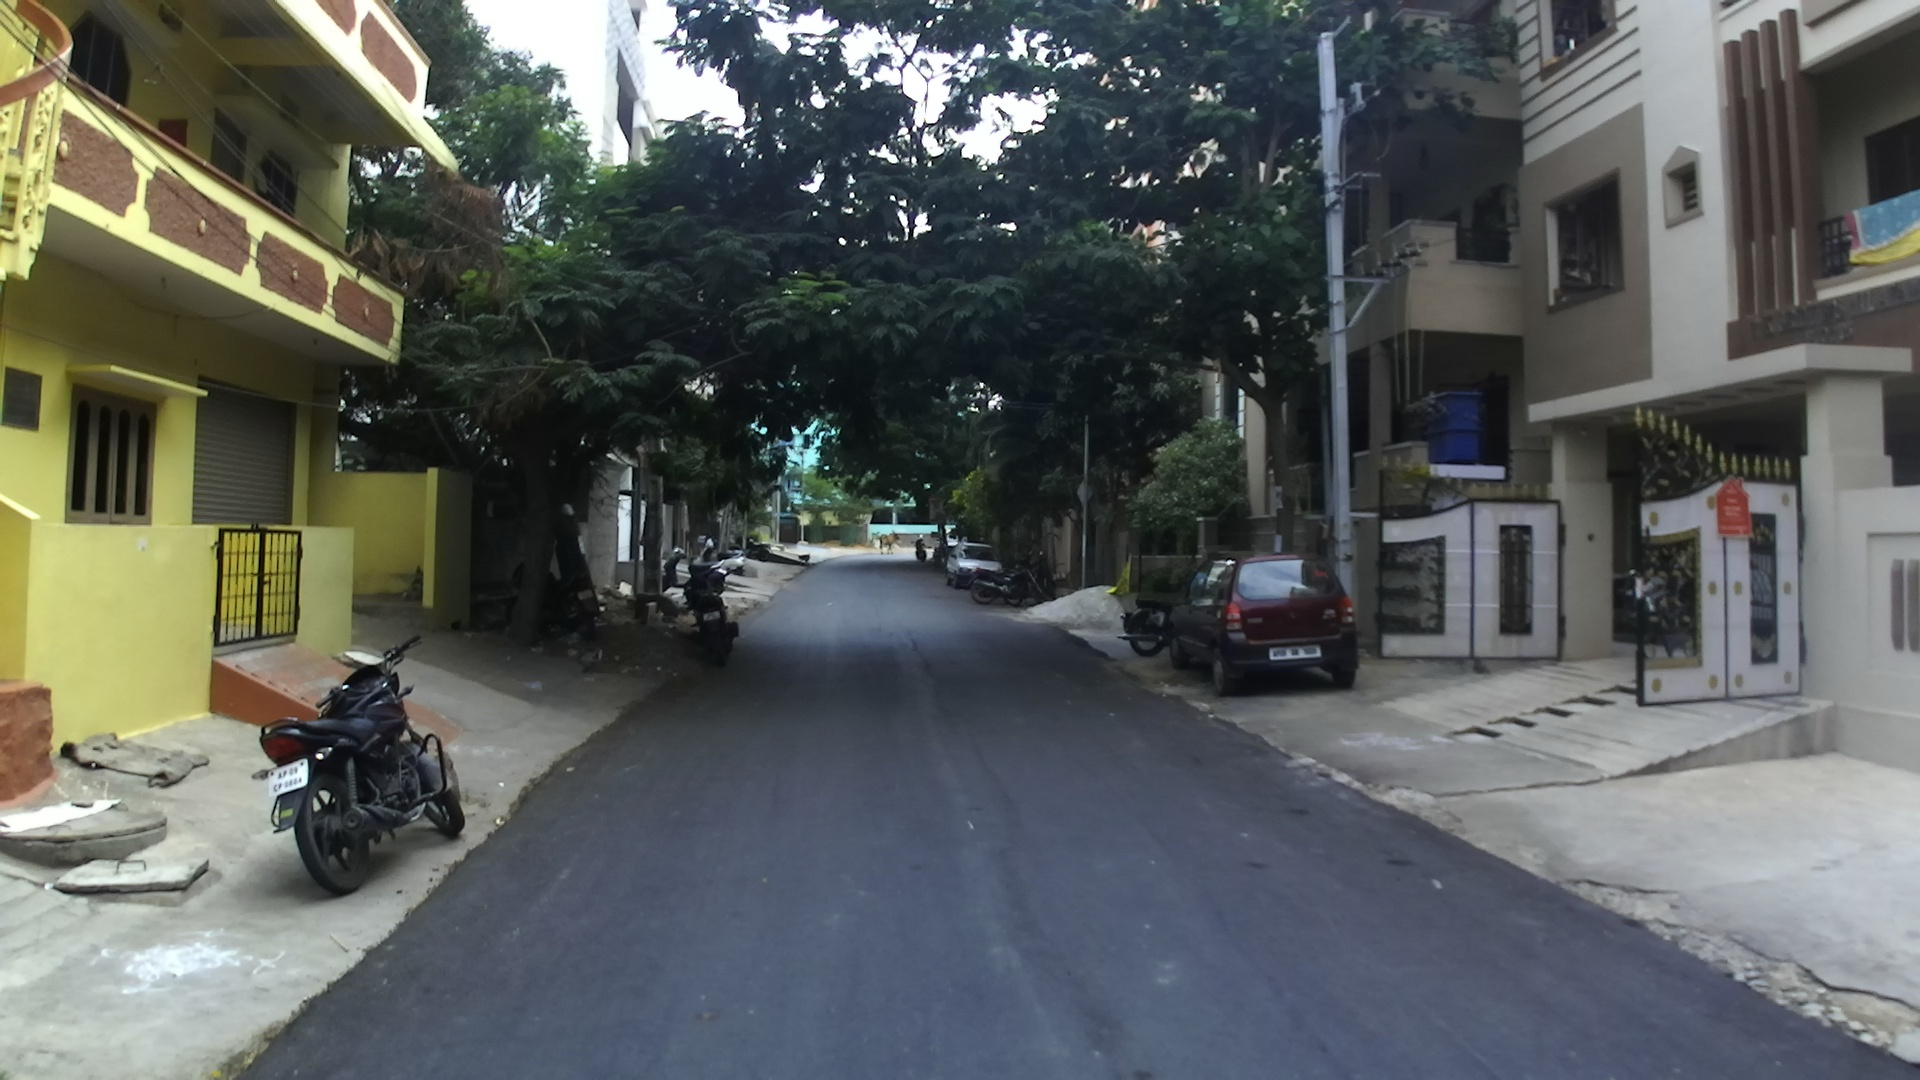vehicle: (257, 638, 468, 895), (1195, 554, 1360, 692), (1166, 560, 1240, 669), (684, 560, 737, 667), (945, 547, 1010, 593)
